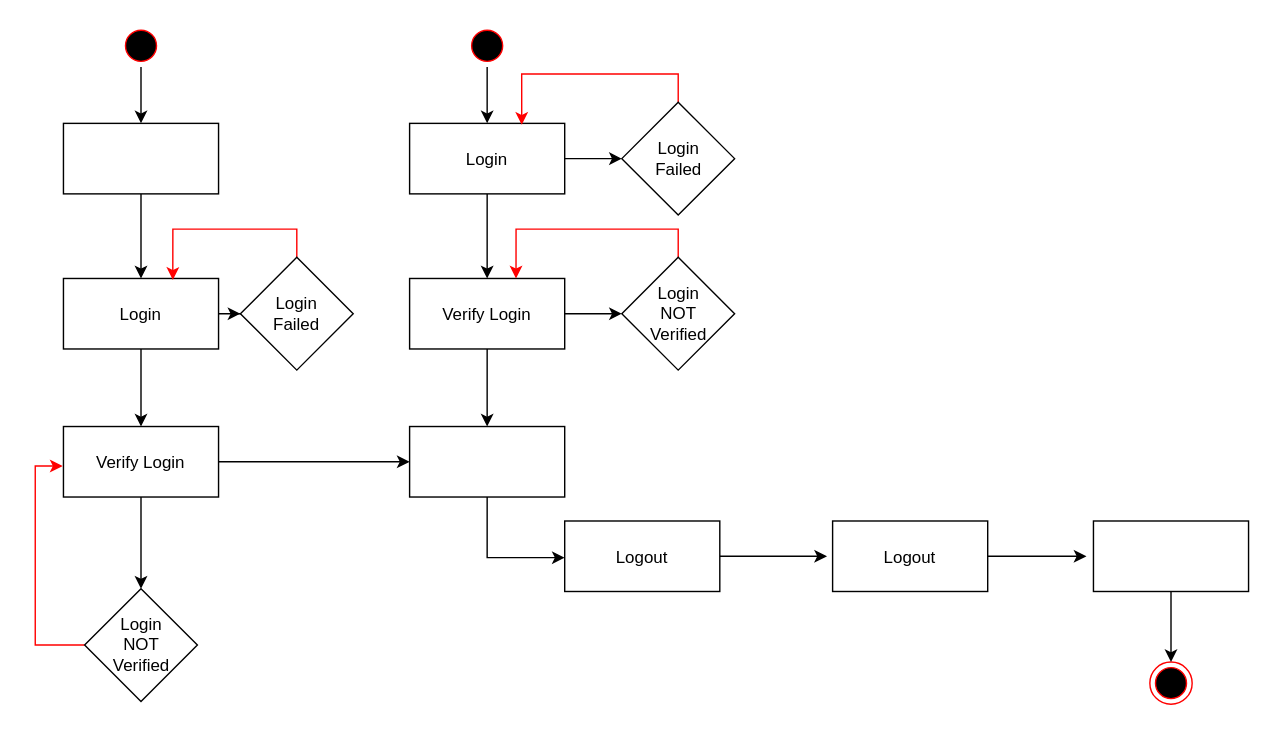
Some shapes in this 1273 by 729 pixel diagram are drawn without their labels. Each missing label, with the box of its shape:
Confirm Logout: (1092, 520, 1249, 591)
Gain/Create Owner Access: (62, 122, 219, 194)
Menu: (408, 425, 565, 497)
